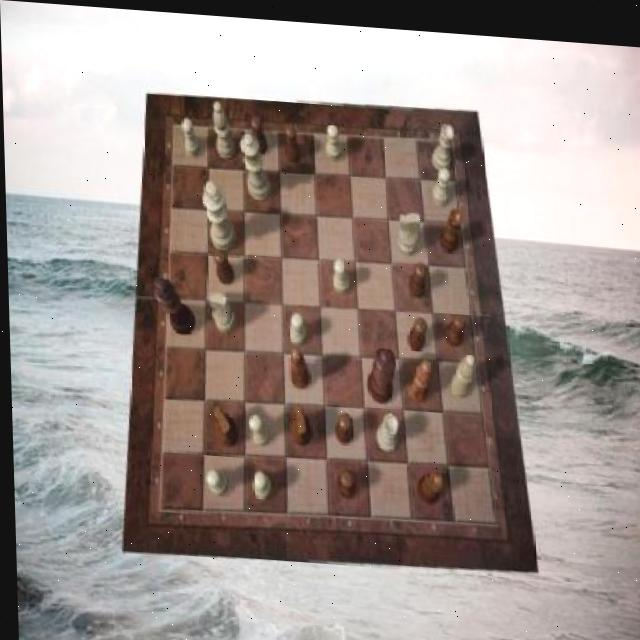bishop: (405, 352, 430, 396), (286, 344, 308, 385)
black-bishop: (152, 275, 194, 333)
black-king: (212, 403, 238, 444), (287, 399, 309, 442)
black-knight: (442, 307, 465, 342), (213, 245, 234, 282), (407, 256, 427, 293), (407, 311, 427, 346), (250, 111, 267, 152), (284, 120, 301, 159), (334, 407, 352, 440), (333, 465, 353, 494)
black-pawn: (363, 339, 394, 399)
black-queen: (438, 201, 463, 247), (415, 462, 442, 498)
black-rook: (212, 97, 235, 156), (446, 344, 474, 391)
white-bishop: (202, 176, 236, 249)
white-king: (205, 289, 235, 330), (395, 206, 420, 251)
white-knight: (430, 160, 450, 200), (181, 117, 200, 156), (246, 411, 268, 444), (331, 253, 349, 290), (324, 117, 341, 156), (204, 465, 226, 492), (287, 309, 305, 342), (249, 468, 269, 496)
white-pawn: (240, 129, 271, 197)
white-queen: (430, 117, 454, 166), (373, 407, 397, 447)
